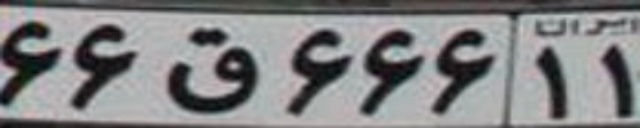1: (598, 43, 632, 117), (536, 44, 568, 118)
6: (284, 26, 354, 116), (70, 17, 137, 109), (0, 17, 60, 106), (435, 27, 496, 112), (363, 28, 421, 115)
ghaf: (162, 27, 258, 113)
